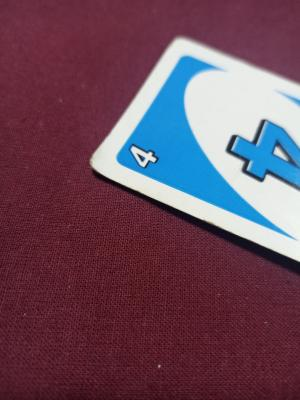num_4: (120, 141, 168, 175)
